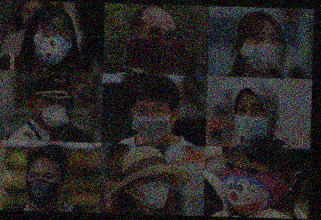with_mask: (220, 149, 284, 215), (136, 26, 178, 71), (32, 20, 73, 65), (243, 28, 282, 71), (133, 170, 173, 208), (26, 165, 63, 206), (133, 100, 173, 137), (233, 99, 269, 140), (35, 95, 66, 125)
